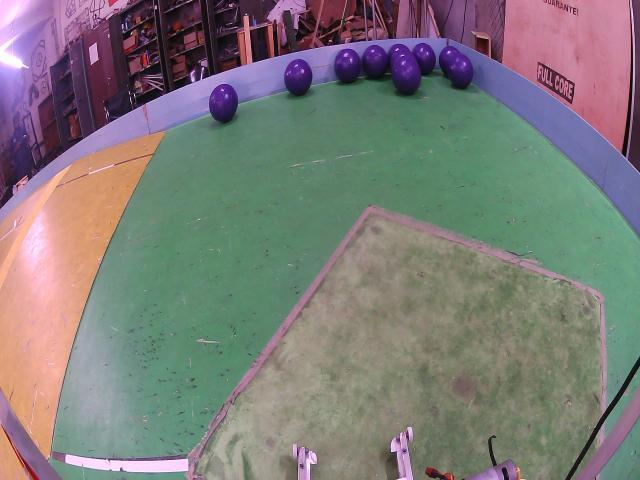jambhalya: (391, 53, 421, 95), (209, 83, 238, 123), (284, 58, 312, 95), (334, 48, 361, 83), (448, 53, 474, 88), (362, 45, 389, 78), (412, 43, 436, 75), (439, 45, 459, 77), (388, 43, 411, 67)
